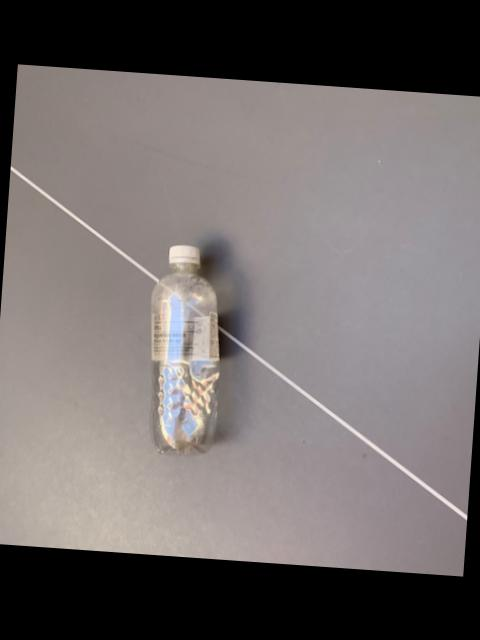plastic: (148, 246, 216, 455)
